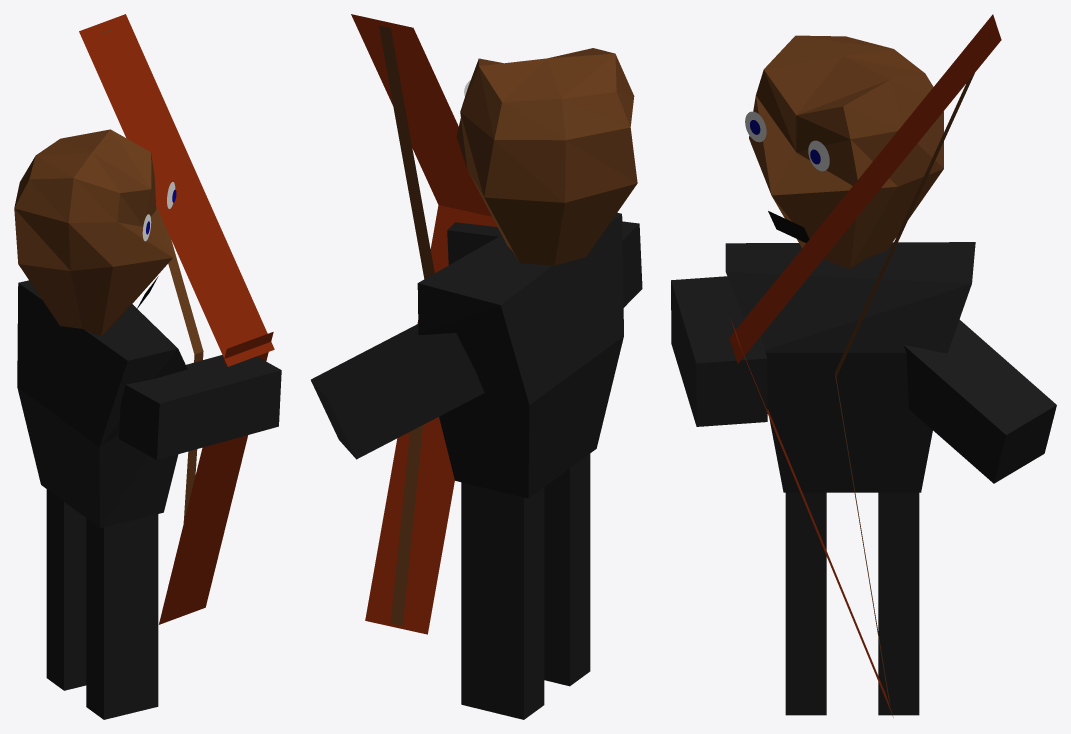
File: heavyarcher3f.obj
The picture shows the model from 3 angles, left to right: view 1: azimuth 30°, elevation 25°; view 2: azimuth 150°, elevation 25°; view 3: azimuth 270°, elevation 25°; orthographic projection. The views are drawn at different scales.
Visible parts, largest first — view 1: Cube.001, Cube, Plane.002_Plane.003, Cube.004, Cube.003, Plane.001_Plane.002, Cube.005, Plane.003_Plane.004; view 2: Cube.001, Cube, Cube.005, Cube.002, Plane.001_Plane.002, Cube.004, Plane.002_Plane.003, Plane.003_Plane.004, Cube.003; view 3: Cube.001, Cube, Cube.002, Cube.003, Plane.002_Plane.003, Cube.005, Cube.004, Plane.003_Plane.004, Plane.001_Plane.002.
Part boxes in pixels (x1,y1,x2,y2): Cube.001: (17,280,187,527); Cube: (14,129,172,335); Plane.002_Plane.003: (79,14,274,366); Cube.004: (86,514,158,719); Cube.003: (119,355,281,459); Plane.001_Plane.002: (159,332,273,624); Cube.005: (46,489,86,690); Plane.003_Plane.004: (102,30,203,522); Cube.001: (417,212,623,498); Cube: (456,48,637,265); Cube.005: (461,482,544,719); Cube.002: (311,324,484,459); Plane.001_Plane.002: (365,205,497,634); Cube.004: (544,454,590,686); Plane.002_Plane.003: (351,14,491,216); Plane.003_Plane.004: (379,25,434,625); Cube.003: (447,221,642,307); Cube.001: (725,242,975,492); Cube: (749,35,943,268); Cube.002: (903,319,1056,483); Cube.003: (671,276,767,426); Plane.002_Plane.003: (729,14,1001,363); Cube.005: (878,492,919,715); Cube.004: (785,492,826,715); Plane.003_Plane.004: (835,33,990,704); Plane.001_Plane.002: (730,319,893,717).
Size of the model in its own units: 2.42 by 6.6 by 3.26.
